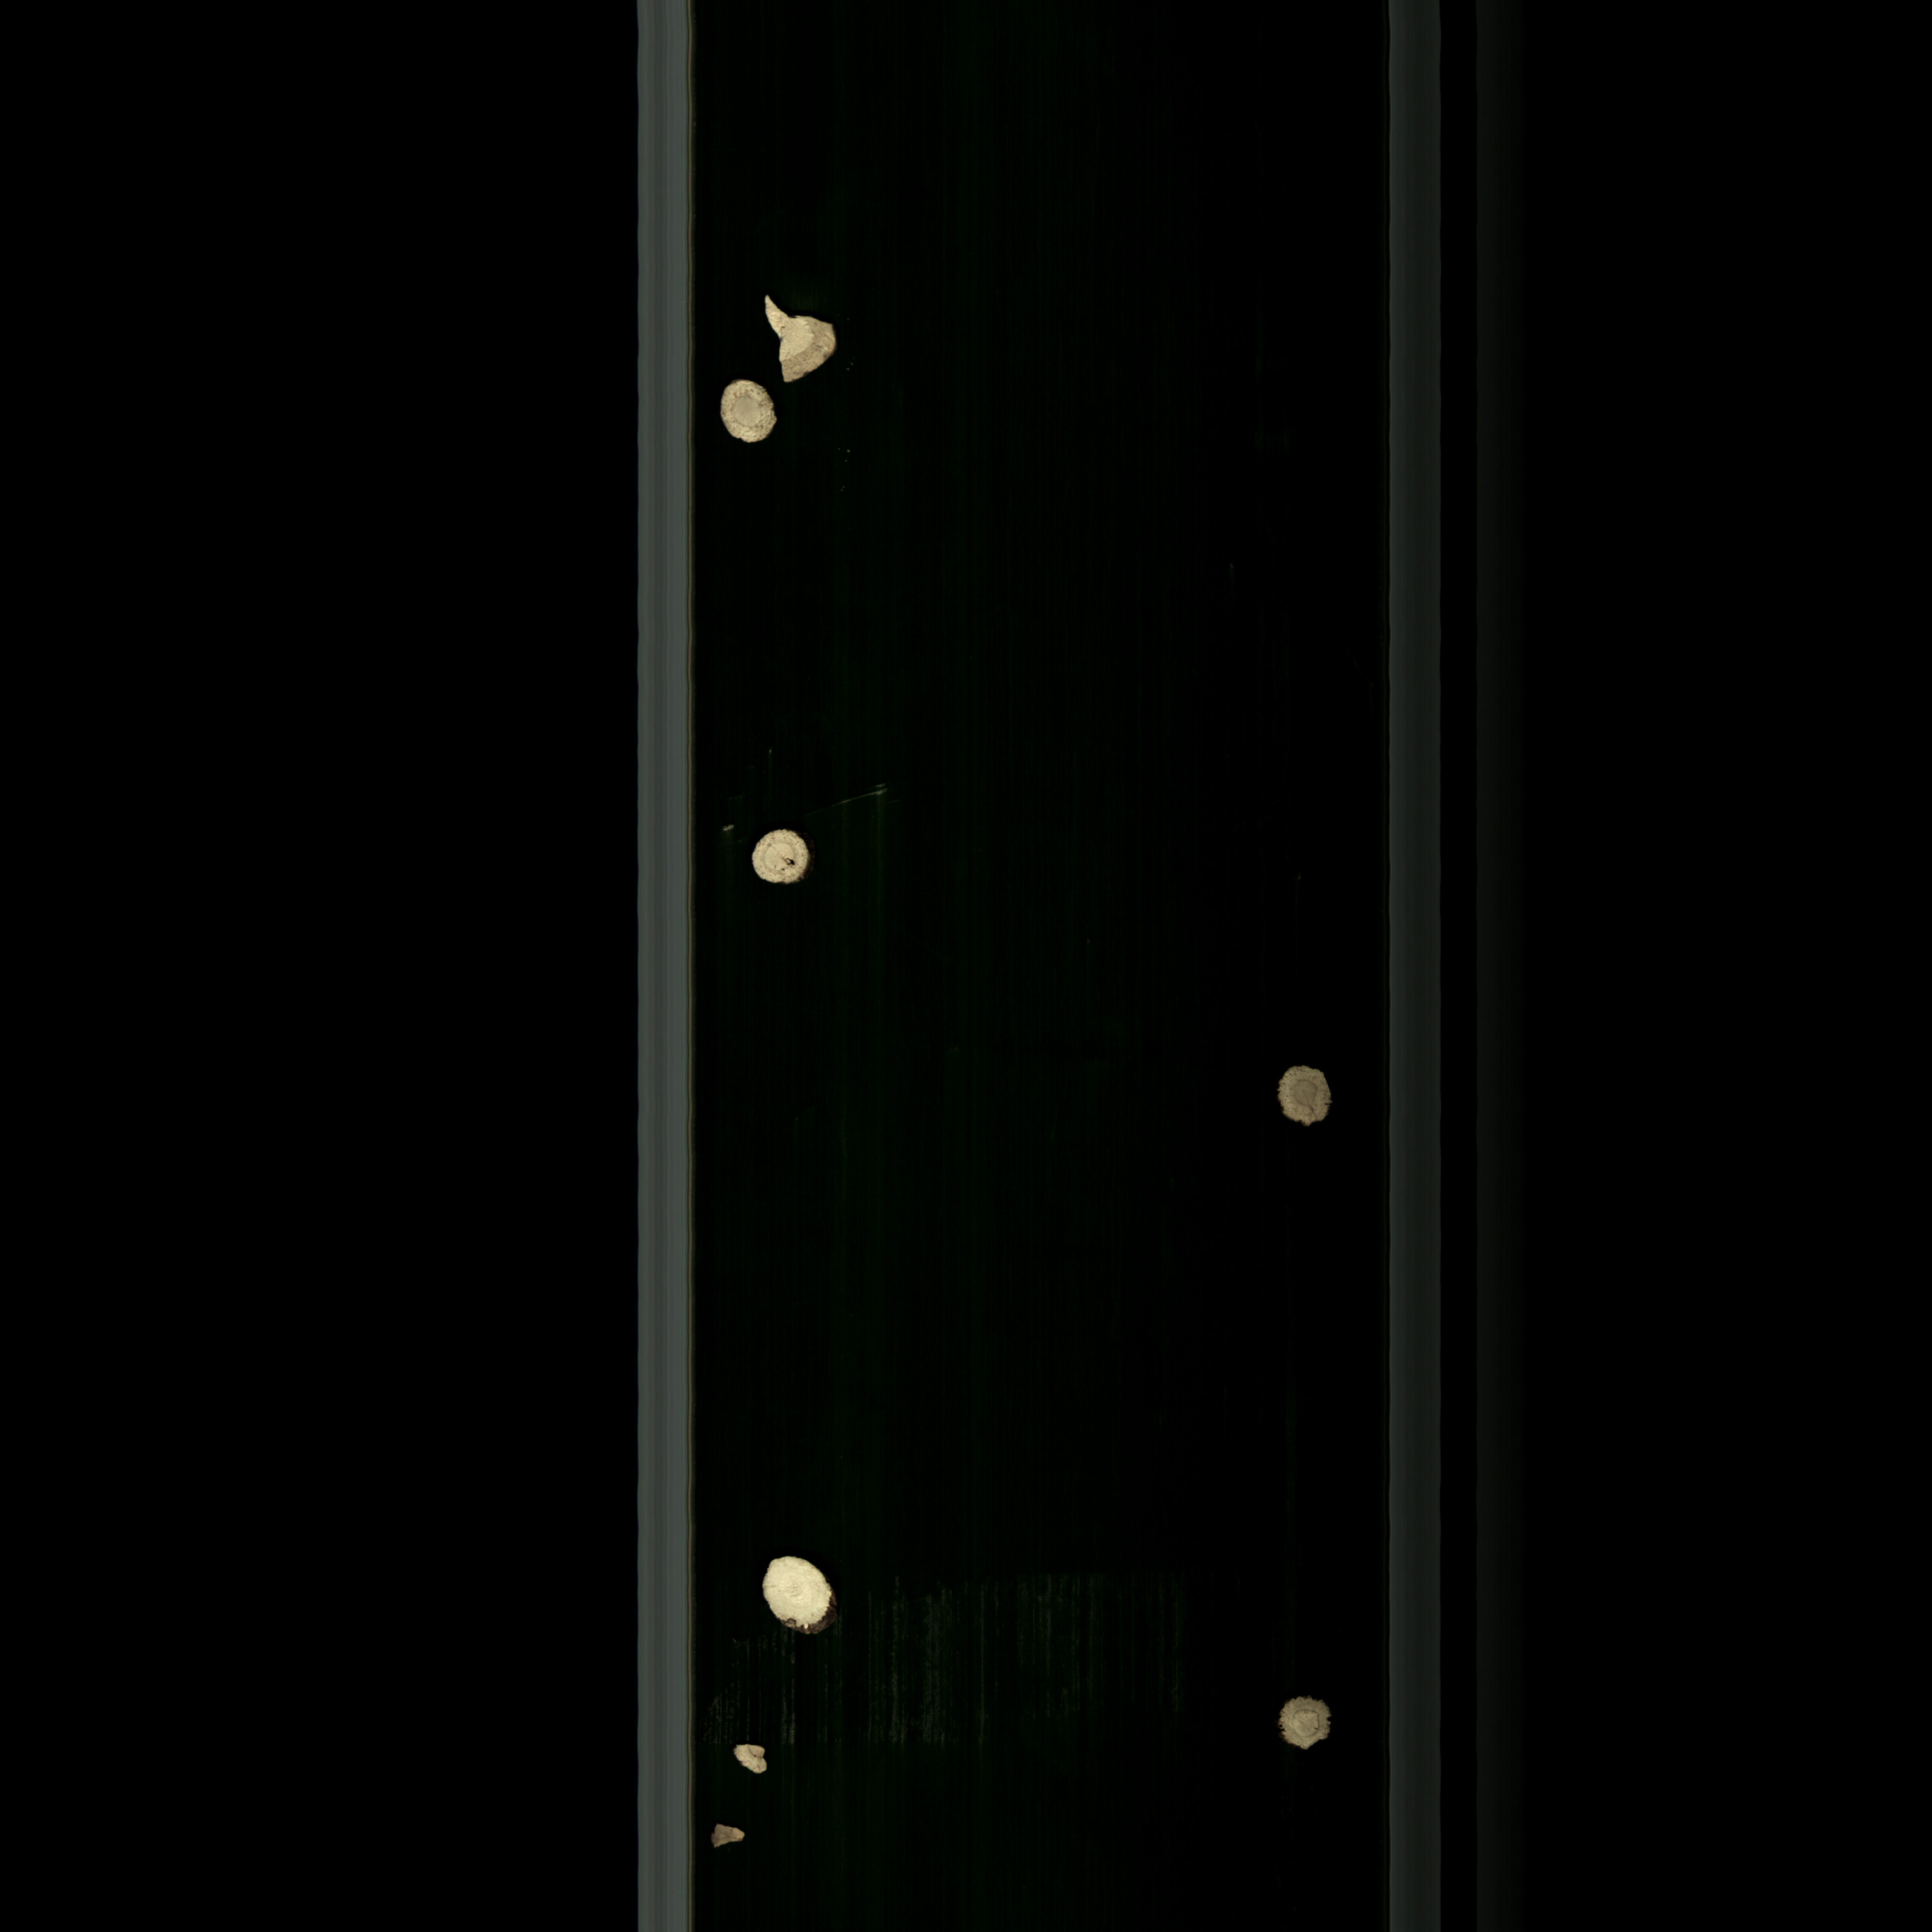bark: (1279, 1690, 1334, 1766)
debris: (750, 287, 872, 398)
dreg: (699, 1805, 759, 1865), (722, 1734, 778, 1783)
hole: (732, 812, 833, 924)
moldy: (1260, 1051, 1348, 1139)
